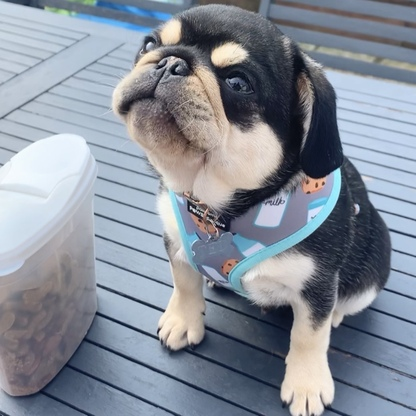Pug: (107, 2, 398, 416)
